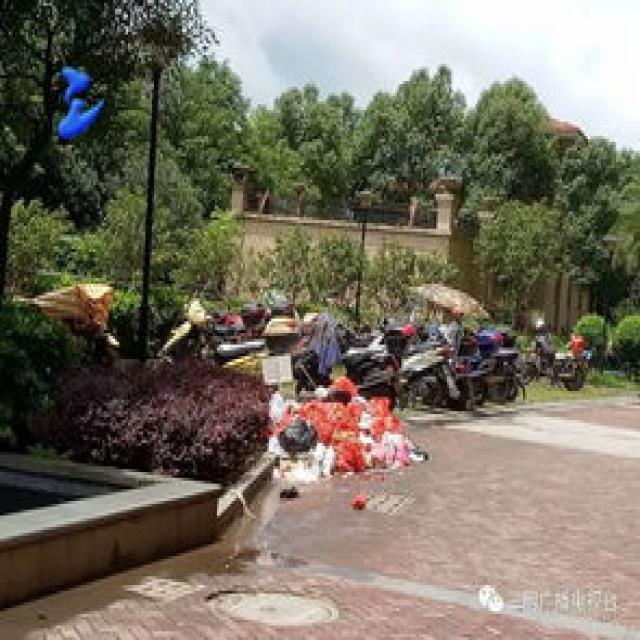garbage: (265, 371, 425, 506)
